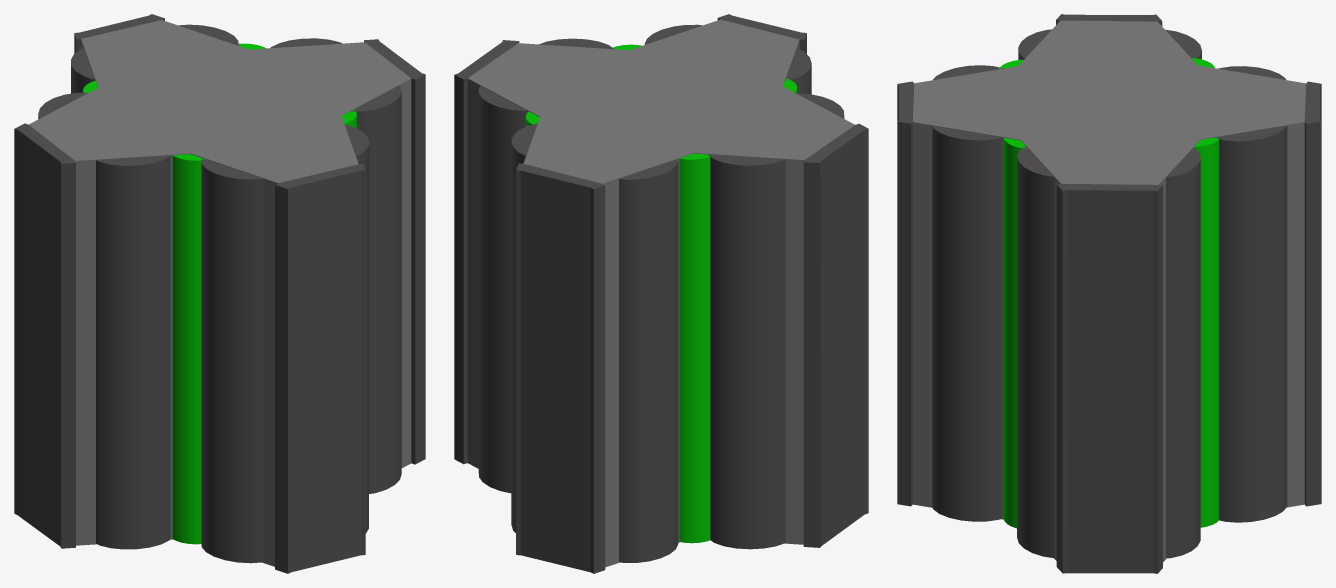
Rendered from Robot_Wall_Corner_4_Sided.fbx.
The picture shows the model from 3 angles, left to right: view 1: azimuth 30°, elevation 25°; view 2: azimuth 150°, elevation 25°; view 3: azimuth 270°, elevation 25°; orthographic projection.
Parts seen in each view (by area): view 1: Robot_Wall_Corner_4_Sided; view 2: Robot_Wall_Corner_4_Sided; view 3: Robot_Wall_Corner_4_Sided.
Part boxes in pixels (bbox=[...]): Robot_Wall_Corner_4_Sided: bbox=[14, 14, 425, 573]; Robot_Wall_Corner_4_Sided: bbox=[454, 14, 868, 573]; Robot_Wall_Corner_4_Sided: bbox=[897, 14, 1321, 573].
Bounding box in the file's own units: 4.97 × 5.03 × 5.
